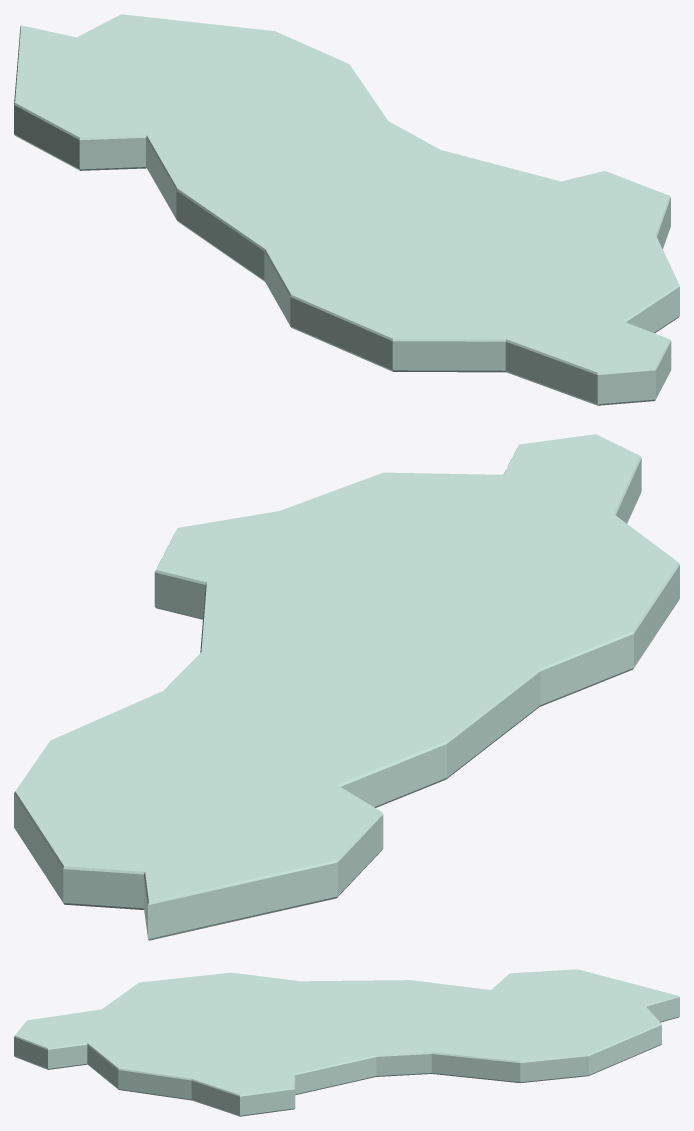
File: ALB.glb
3 views of the same model, one above another, from view 1: azimuth 30°, elevation 25°; view 2: azimuth 150°, elevation 25°; view 3: azimuth 270°, elevation 25° (orthographic). The views are drawn at different scales.
Bounding box in the file's own units: 0.8555 × 0.068 × 1.9.
